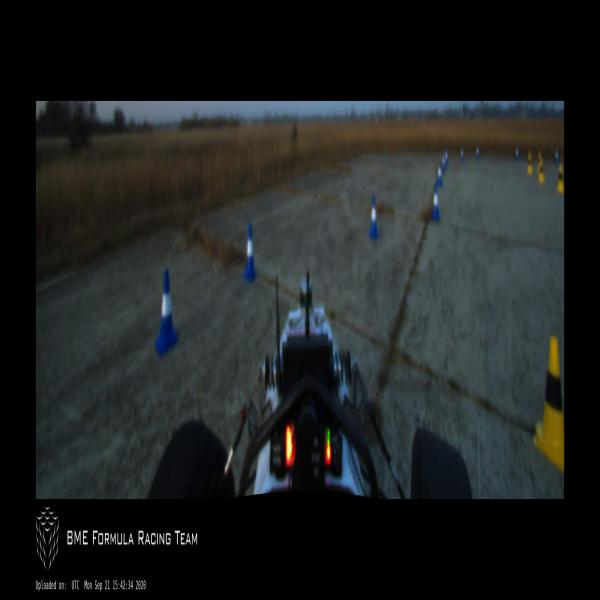blue_cone: (154, 270, 179, 358), (242, 224, 256, 280), (368, 196, 379, 239), (431, 184, 441, 221), (436, 160, 444, 186), (442, 152, 446, 173), (444, 148, 448, 166), (555, 148, 559, 165), (515, 145, 519, 161), (476, 144, 480, 159), (461, 147, 464, 162)
yellow_cone: (533, 335, 564, 469), (556, 164, 564, 194), (538, 160, 545, 183), (536, 152, 542, 172), (528, 152, 532, 174)
